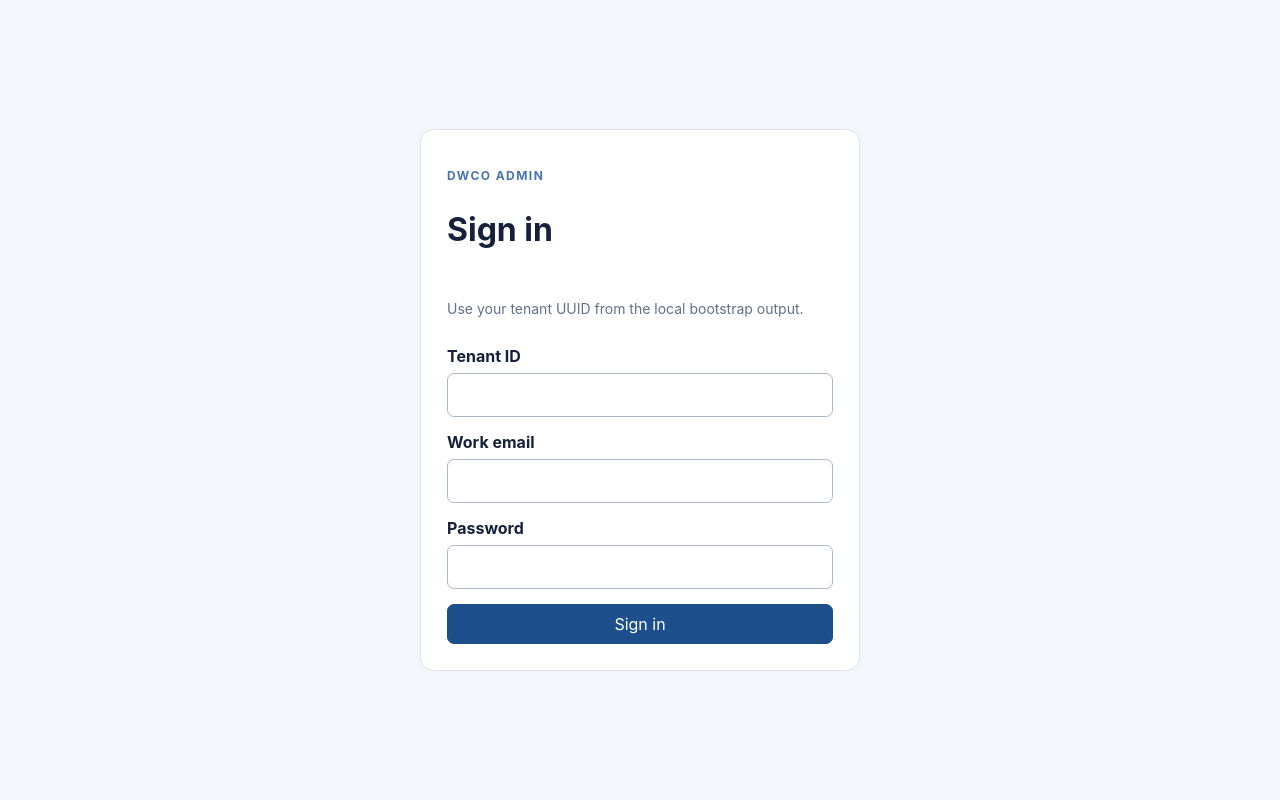
Test: AdminShell › shows aggregate messaging metadata without exposing content
Type "tenant-a" into the field labelled "Tenant ID".
click(640, 395); type("tenant-a")  # box [447,373,833,417]
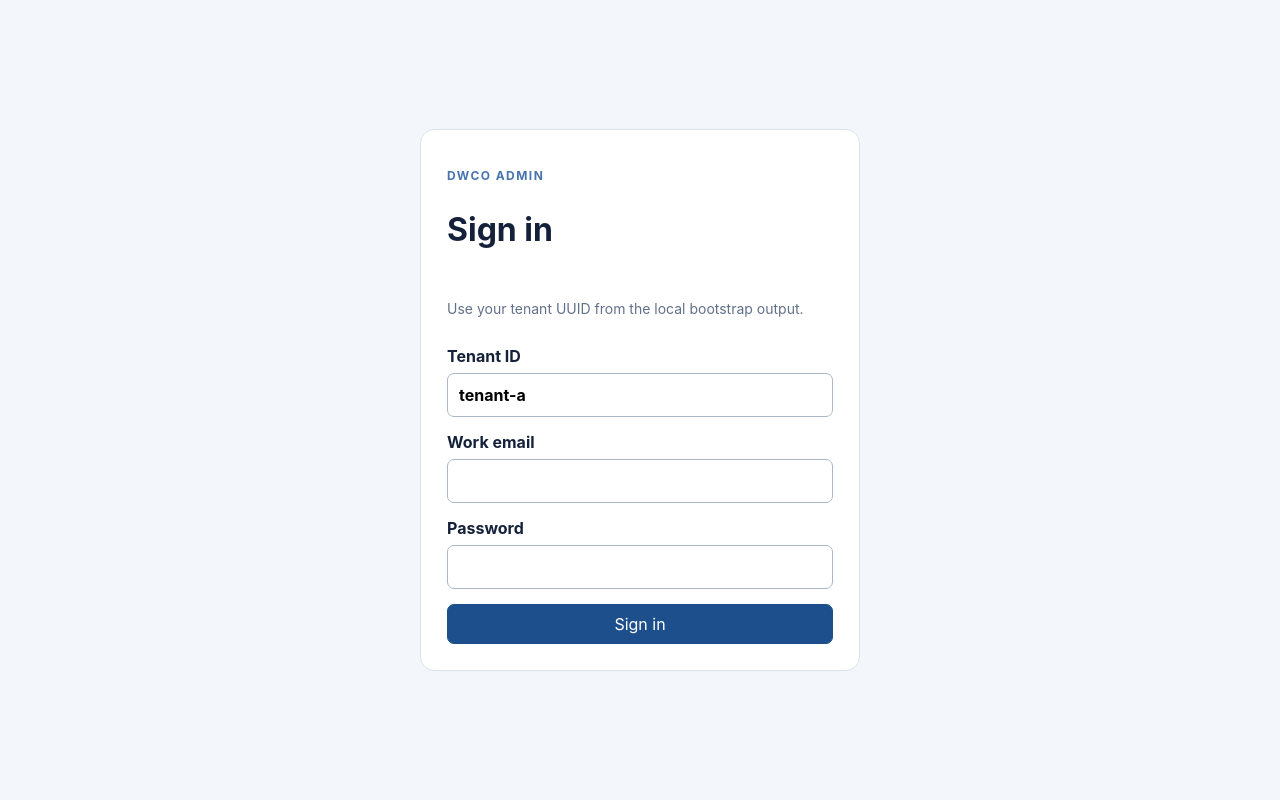
Type "admin@example.com" into the field labelled "Work email".
click(640, 481); type("admin@example.com")  # box [447,459,833,503]
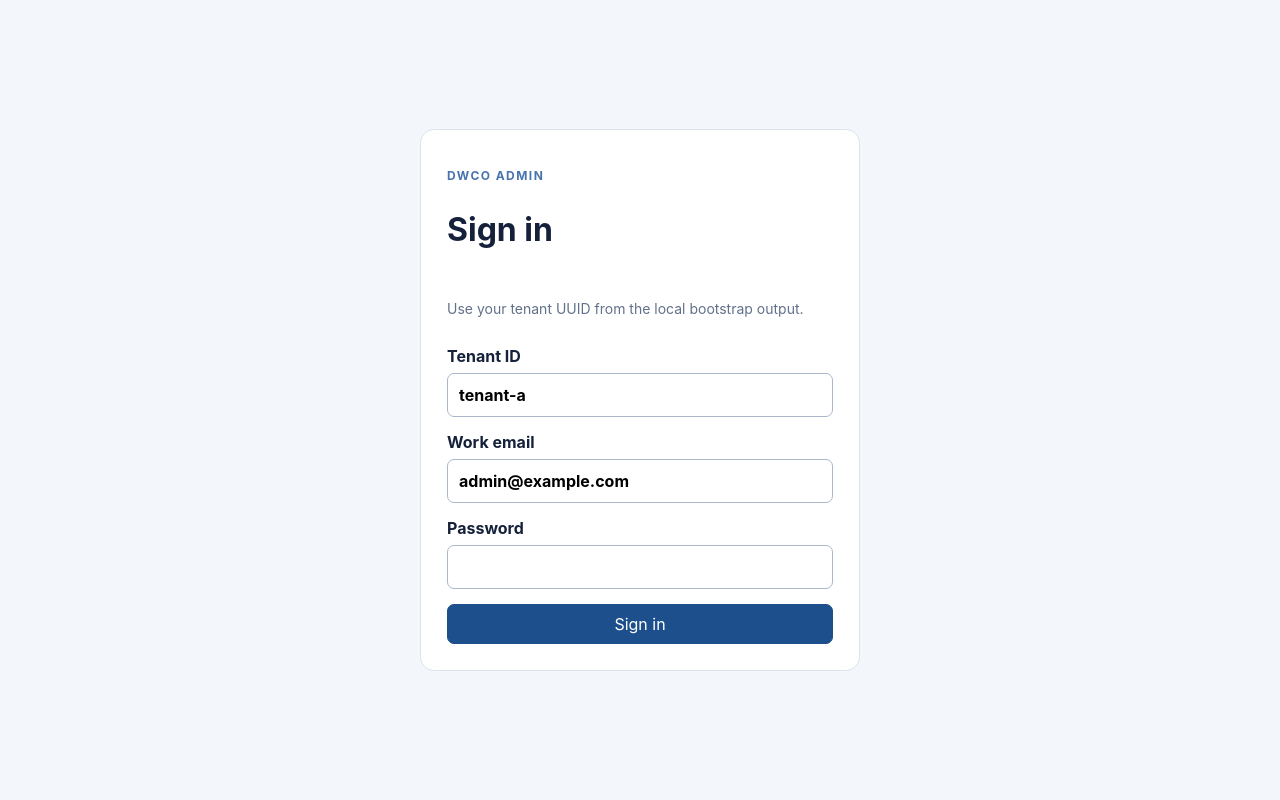
Type "correct-password" into the password field labelled "Password".
click(640, 567); type("correct-password")  # box [447,545,833,589]
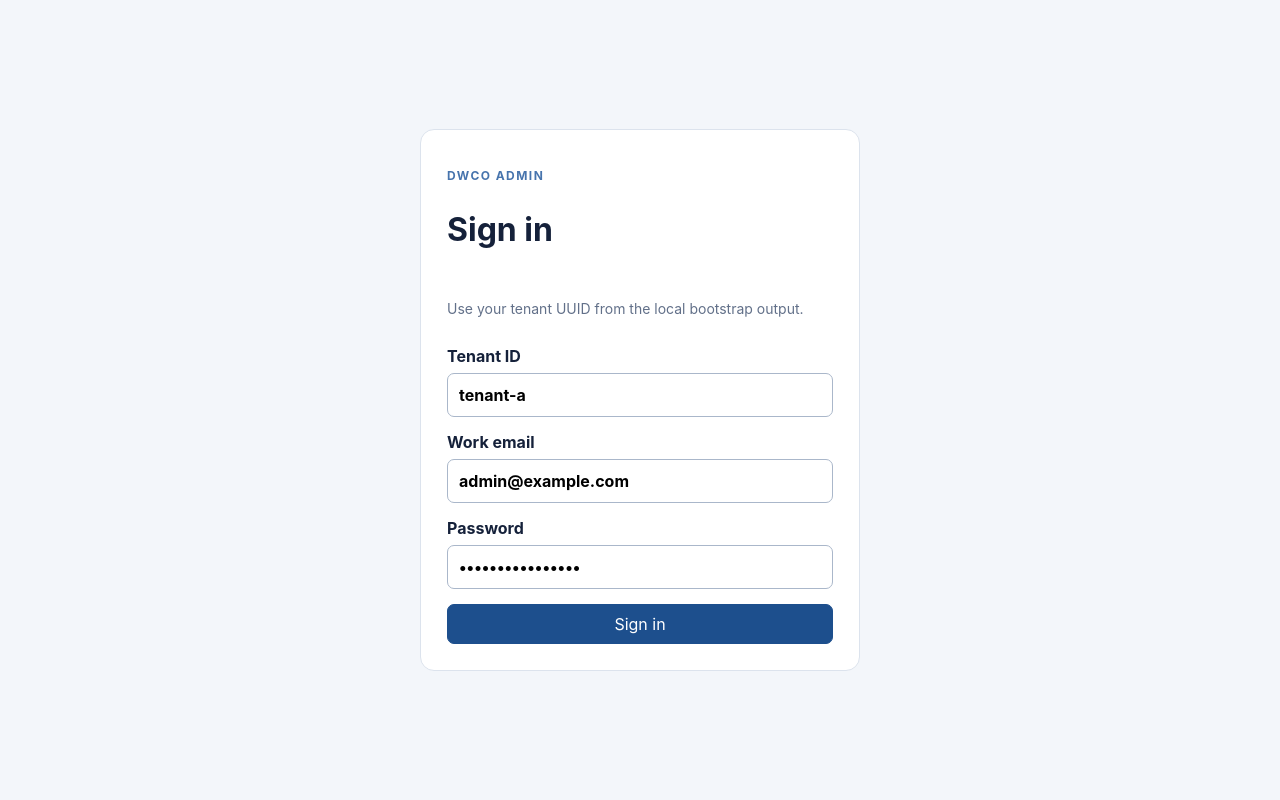
Click the button "Sign in".
click(640, 624)  # box [447,604,833,644]
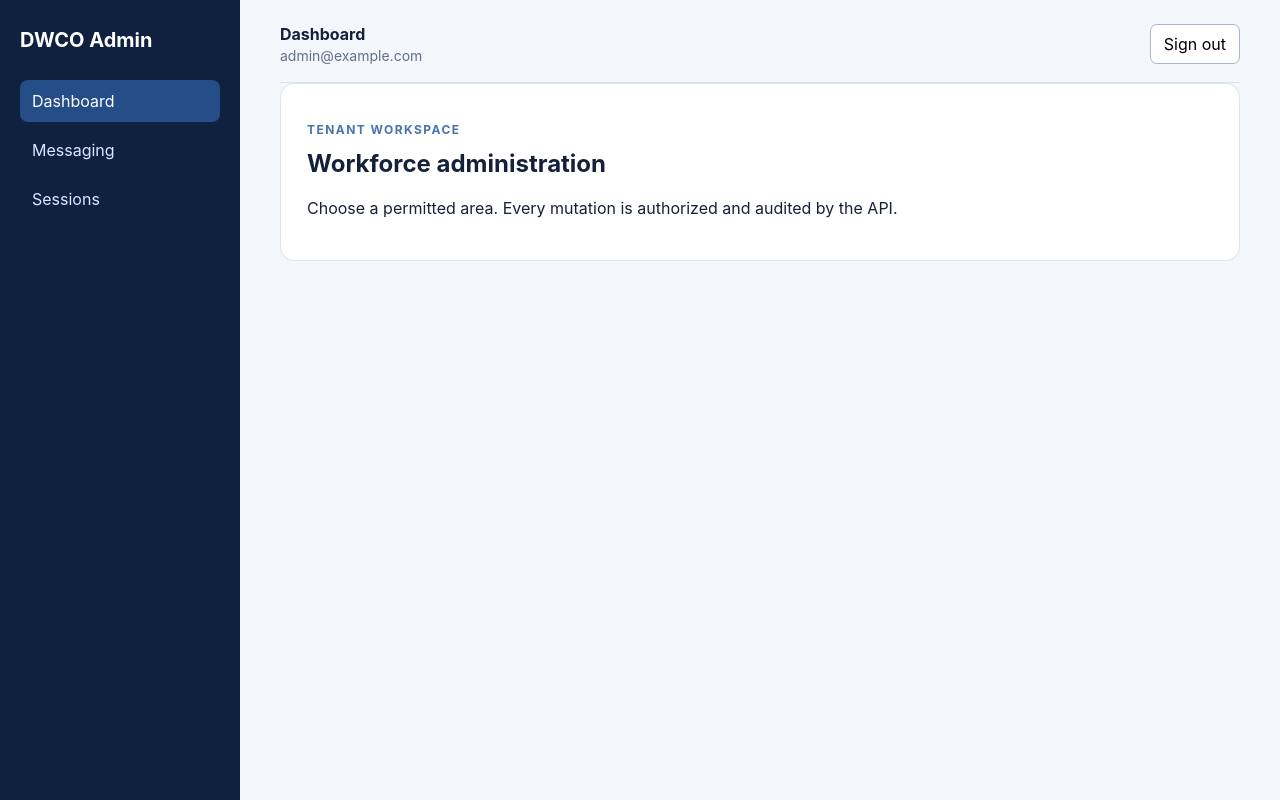
Click the button "Messaging".
click(120, 150)  # box [20,129,220,171]
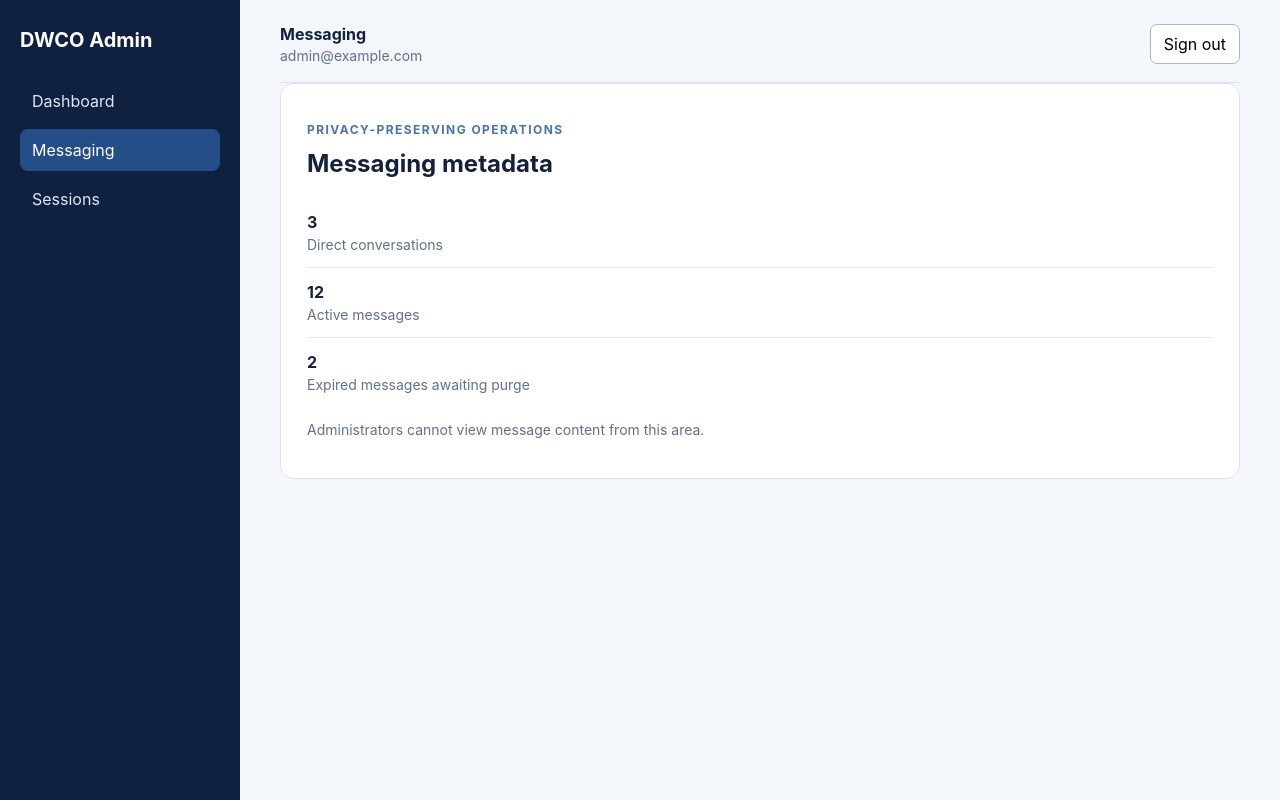
Check: the heading "Messaging metadata" is shown, box [307,149,553,178]
Check: the text "12" is shown, box [307,282,324,302]
Check: the text "Administrators cannot view message content from this area." is shown, box [307,421,704,438]
